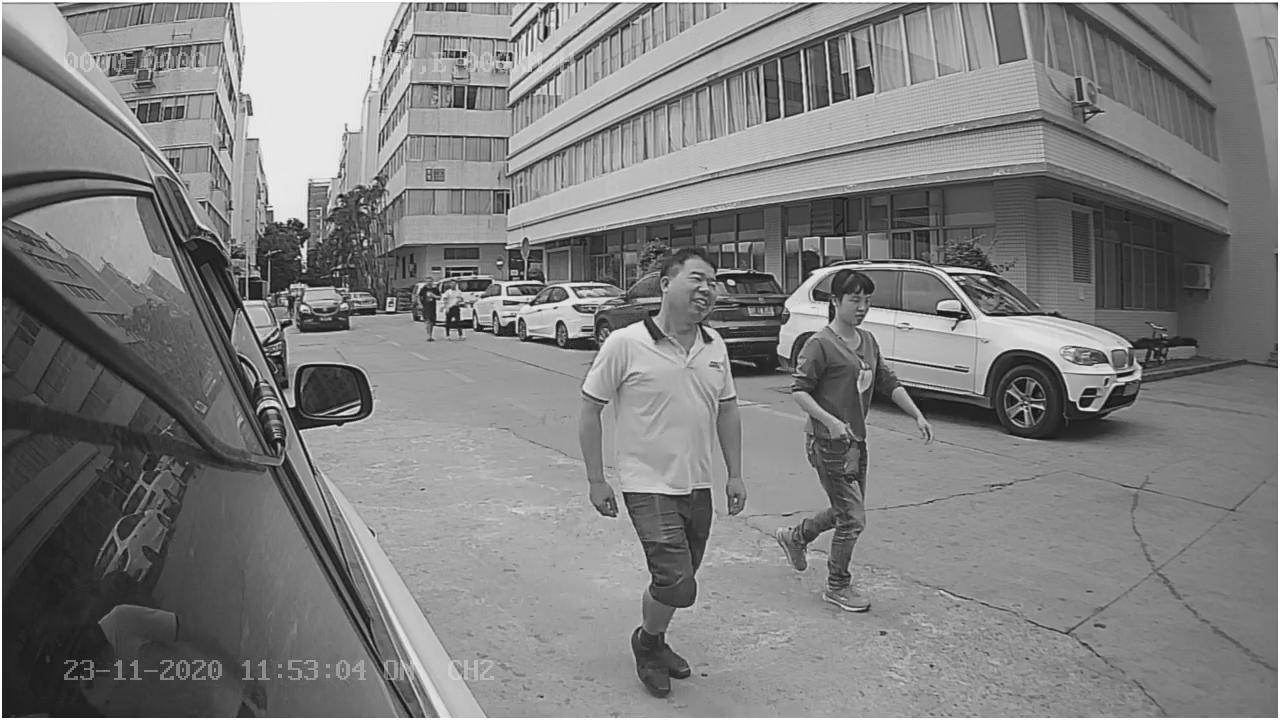person: (574, 245, 737, 687), (774, 275, 893, 606)
